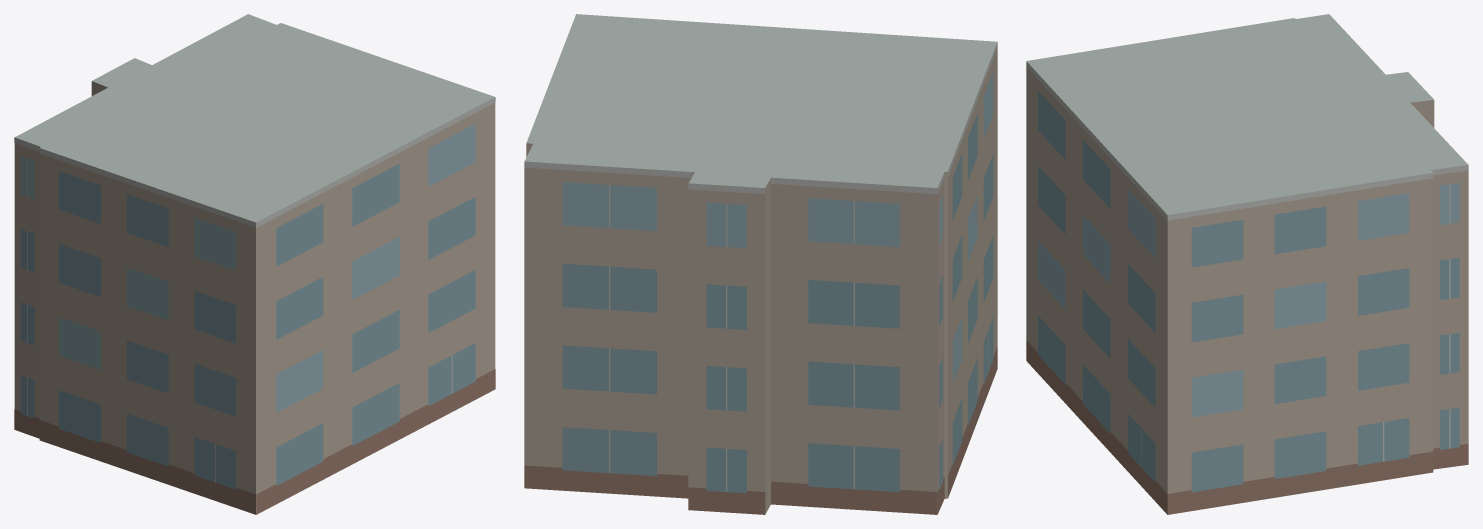
Rendered from survey-upis-32839880.glb.
3 views of the same model, side by side, from view 1: azimuth 30°, elevation 25°; view 2: azimuth 150°, elevation 25°; view 3: azimuth 270°, elevation 25° (orthographic). The views are drawn at different scales.
Visible parts, largest first — view 1: survey-upis-32839880.tmp; view 2: survey-upis-32839880.tmp; view 3: survey-upis-32839880.tmp.
Part boxes in pixels (bbox=[...]): survey-upis-32839880.tmp: bbox=[14, 14, 495, 514]; survey-upis-32839880.tmp: bbox=[524, 14, 997, 514]; survey-upis-32839880.tmp: bbox=[1026, 14, 1468, 514].
Bounding box in the file's own units: 18.87 × 13.1 × 17.53.
